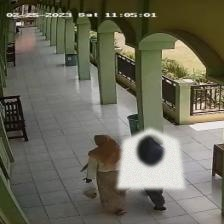Mukena: (116, 128, 185, 188)
